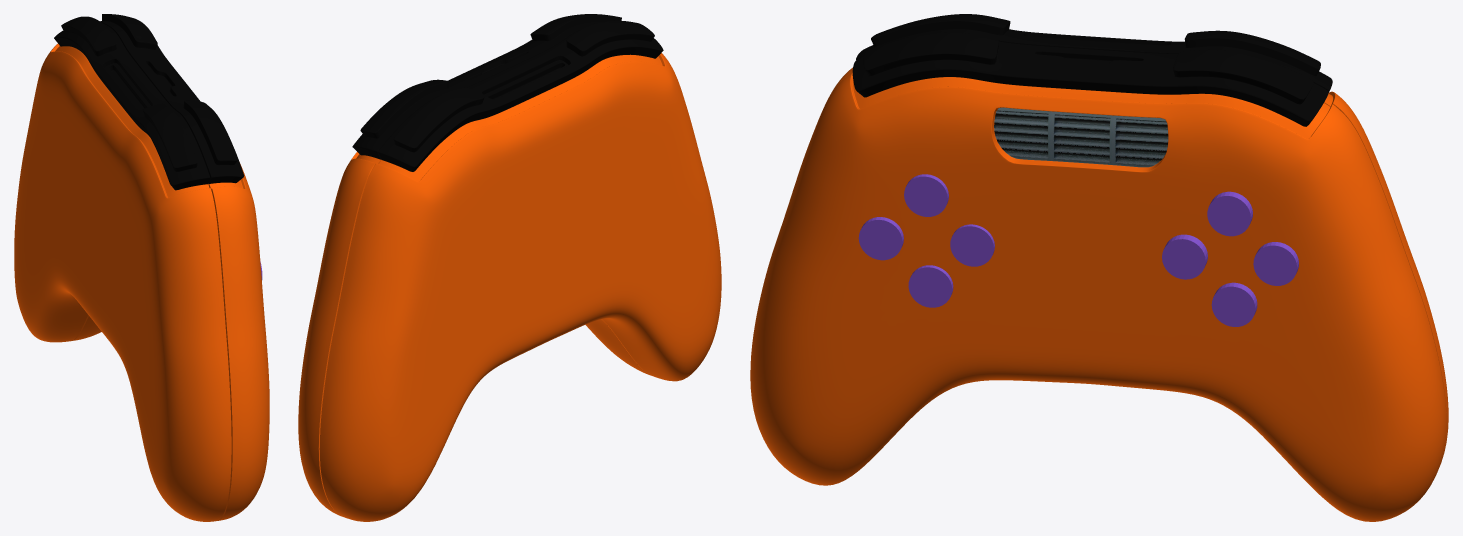
The model's file is controller.glb.
The picture shows the model from 3 angles, left to right: view 1: azimuth 30°, elevation 25°; view 2: azimuth 150°, elevation 25°; view 3: azimuth 270°, elevation 25°; orthographic projection. The views are drawn at different scales.
Visible parts, largest first — view 1: structure; view 2: structure; view 3: structure, Cylinder.001, Cylinder, Cylinder.002, Cylinder.003, Cylinder.005, Cylinder.004, Cylinder.006, Cylinder.007.
Boxes of the visible parts, x1,y1,x2,y2 form: structure: [14, 14, 269, 521]; structure: [298, 14, 721, 521]; structure: [750, 14, 1448, 521]; Cylinder.001: [1162, 234, 1207, 279]; Cylinder: [1207, 191, 1252, 236]; Cylinder.002: [1211, 282, 1257, 326]; Cylinder.003: [1253, 242, 1298, 285]; Cylinder.005: [858, 217, 903, 260]; Cylinder.004: [904, 174, 948, 216]; Cylinder.006: [908, 265, 953, 307]; Cylinder.007: [950, 224, 994, 266].
Bounding box in the file's own units: 0.4408 × 0.9091 × 1.22.
4 materials, 1 textured.
